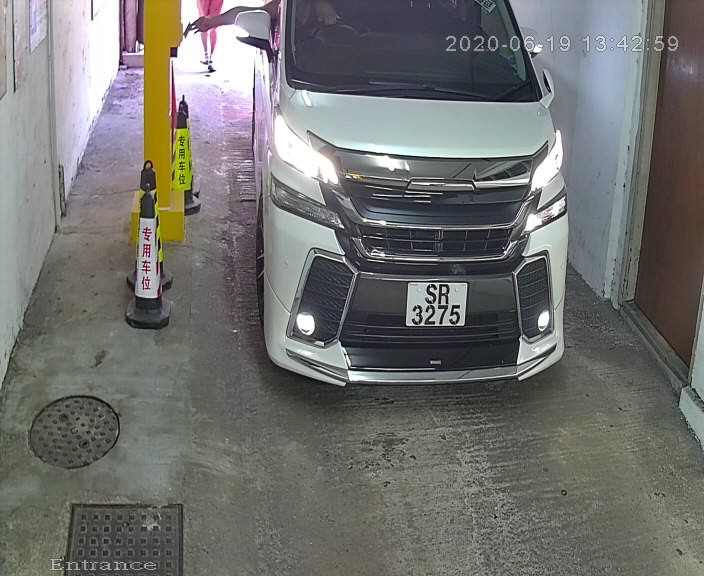privatecar: (231, 3, 592, 423)
